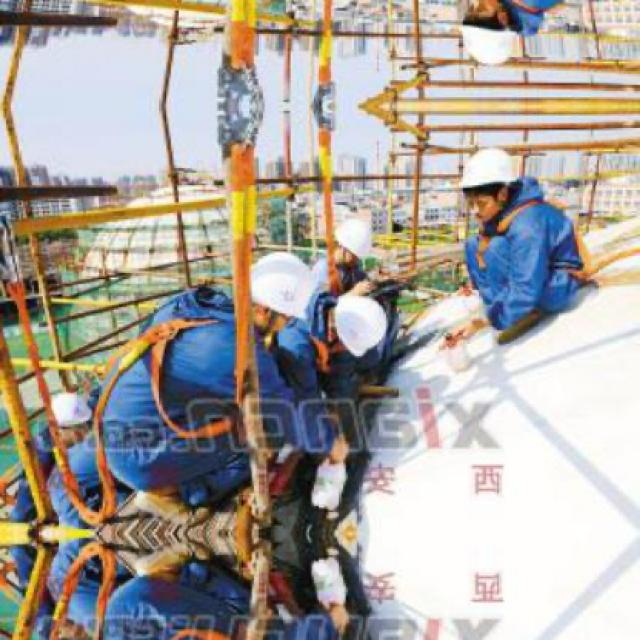helmet: (246, 245, 308, 336), (457, 148, 518, 224), (320, 296, 392, 358), (456, 0, 519, 66), (52, 386, 94, 441), (337, 217, 372, 270), (52, 626, 96, 639)
